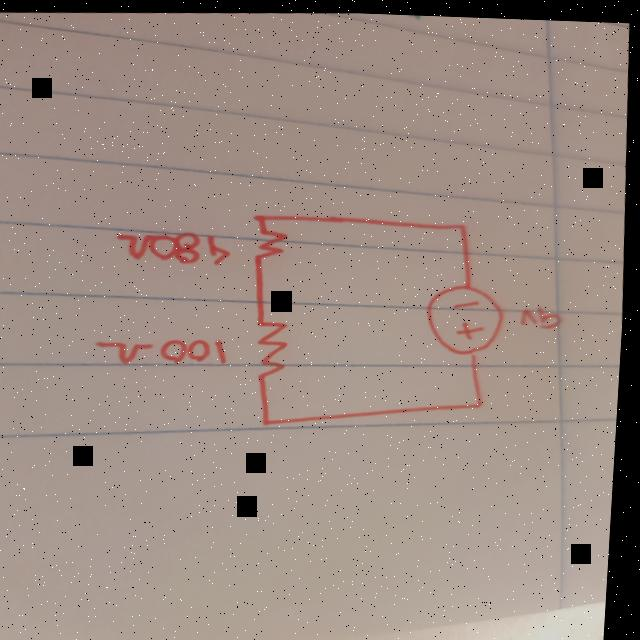junction: (472, 393, 490, 409), (263, 411, 282, 426), (252, 208, 272, 222), (455, 216, 474, 228)
resistor: (250, 310, 297, 380), (250, 226, 293, 258)
source: (423, 276, 512, 354)
text: (111, 223, 236, 271), (96, 333, 238, 369), (518, 298, 568, 326)
